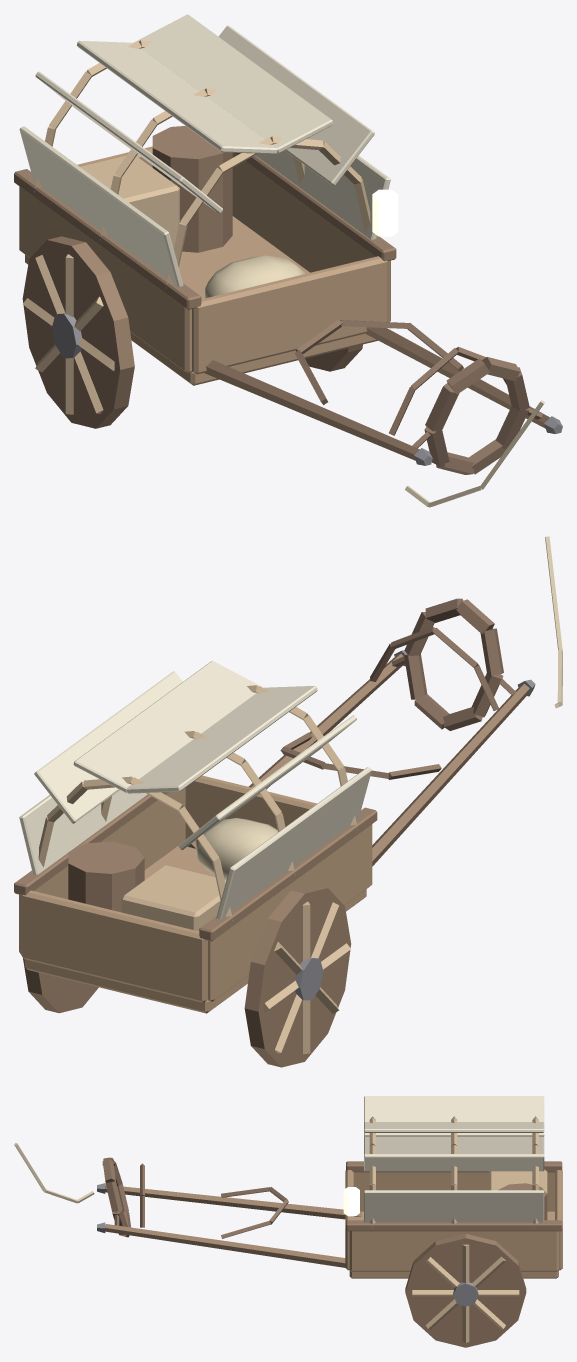
File: prop_cart_draft.glb
3 views of the same model, one above another, from view 1: azimuth 30°, elevation 25°; view 2: azimuth 150°, elevation 25°; view 3: azimuth 270°, elevation 25° (orthographic). The views are drawn at different scales.
Parts seen in each view (by area): view 1: cart, wheels, prop_cart_draft; view 2: cart, wheels, prop_cart_draft; view 3: cart, wheels, prop_cart_draft.
Boxes of the visible parts, x1,y1,x2,y2 form: cart: (14, 14, 562, 465); wheels: (22, 236, 362, 428); prop_cart_draft: (294, 319, 544, 507); cart: (14, 650, 535, 1013); wheels: (23, 884, 351, 1067); prop_cart_draft: (280, 536, 562, 779); cart: (97, 1096, 562, 1278); wheels: (405, 1234, 526, 1347); prop_cart_draft: (14, 1143, 288, 1238).
Size of the model in its own units: 1.62 by 1.88 by 4.72.
